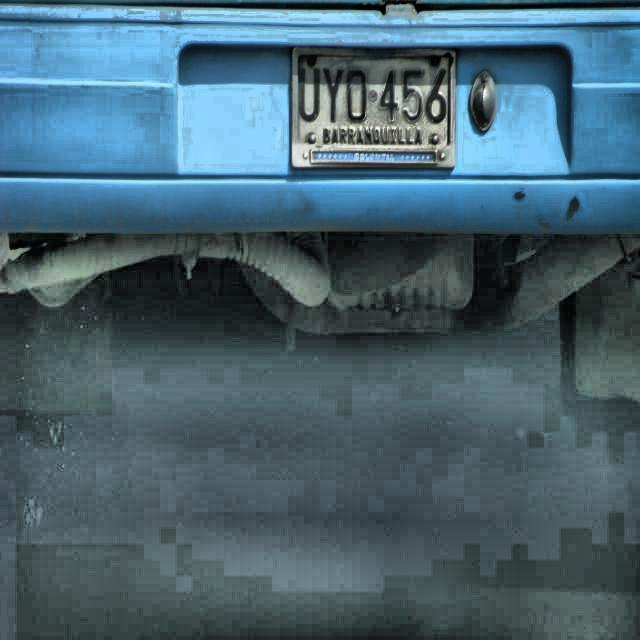plate: (291, 48, 456, 169)
